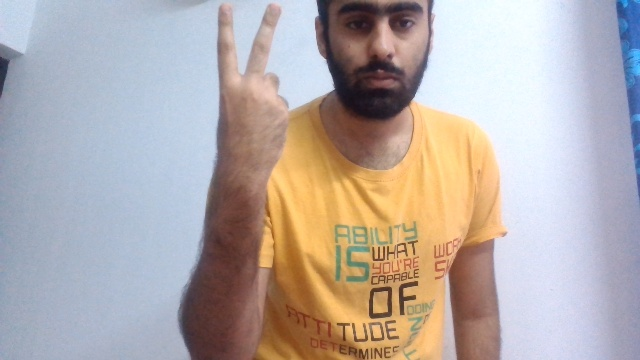scissors: (212, 2, 291, 174)
